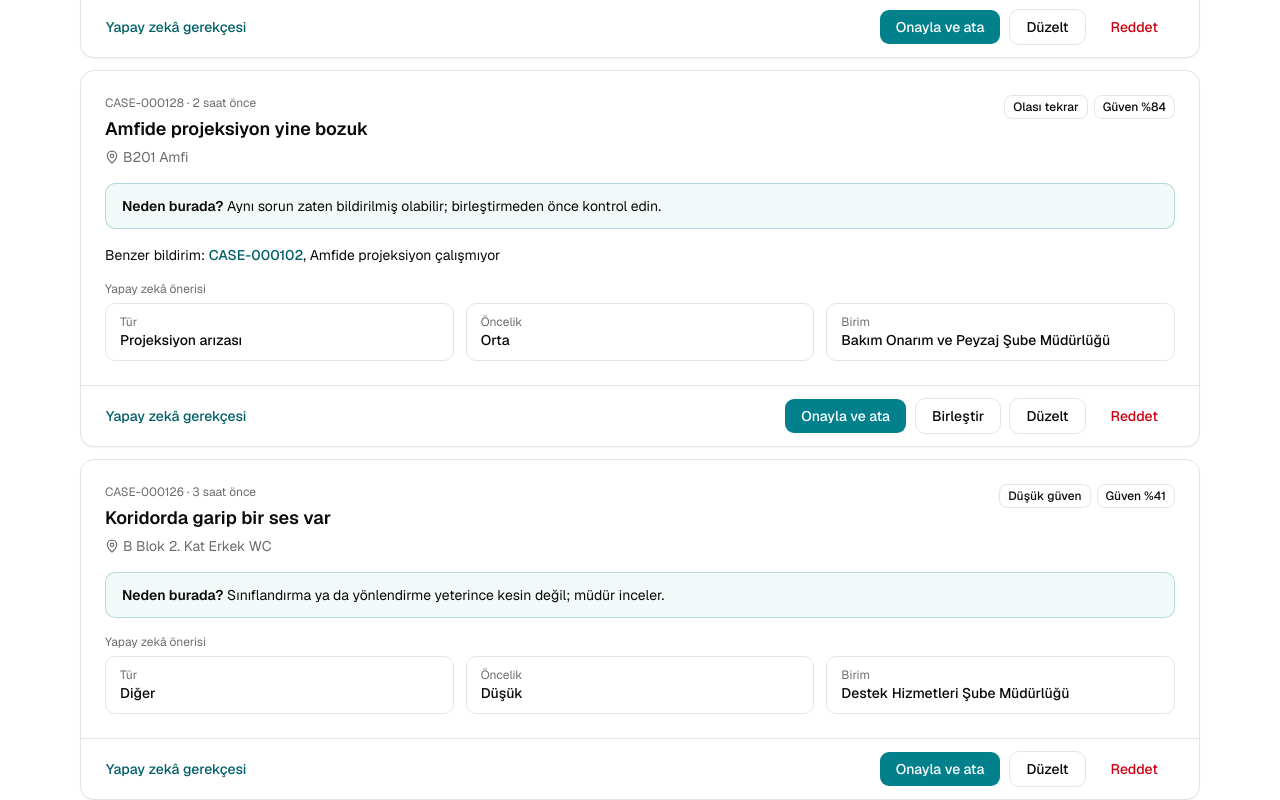
ReviewQueue › requires a reason before rejecting
(page scrolled)
Click the button "Reddet" below "Destek Hizmetleri Şube Müdürlüğü" at (1134, 769), box left=1094, top=751, right=1175, bottom=787
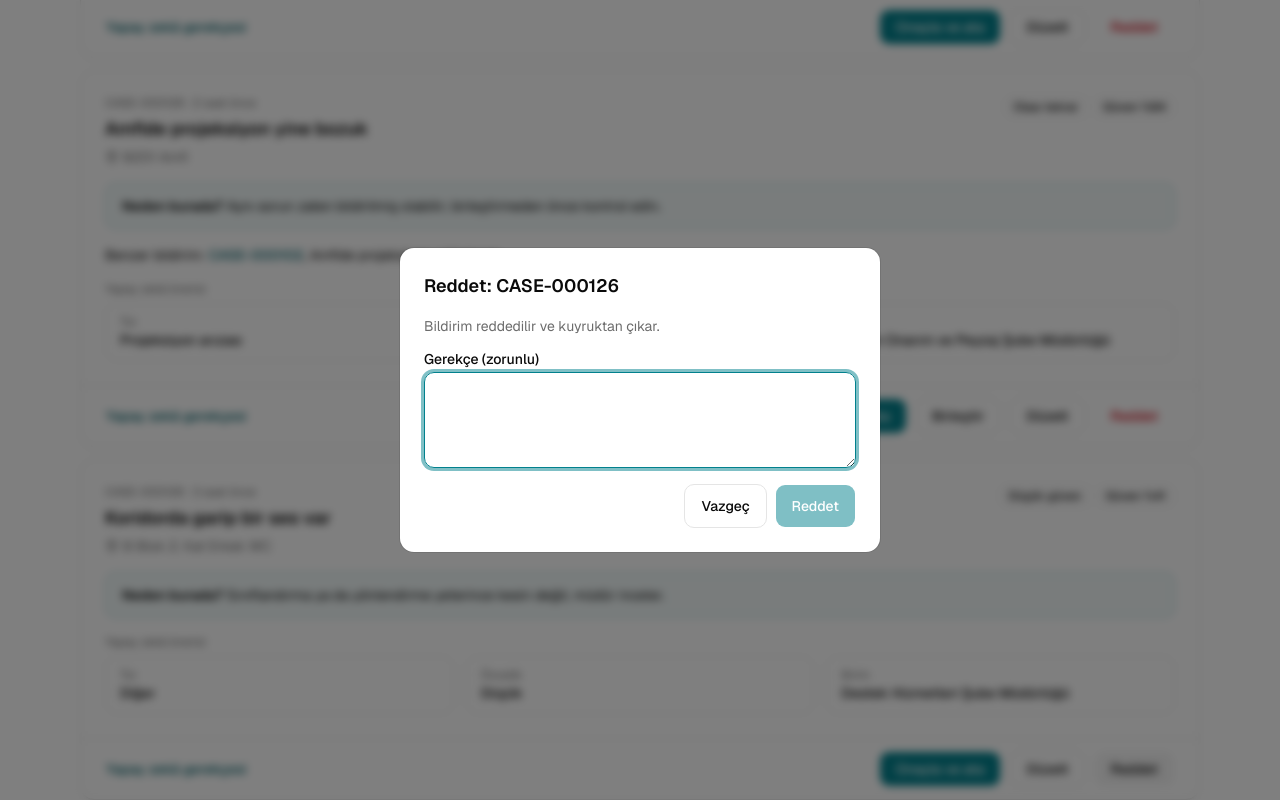
Now the button "Reddet" is disabled, box left=775, top=484, right=856, bottom=528
Type "Kampüs dışı bir talep." into the text box labelled "Gerekçe (zorunlu)" at (640, 420), box left=424, top=372, right=856, bottom=468
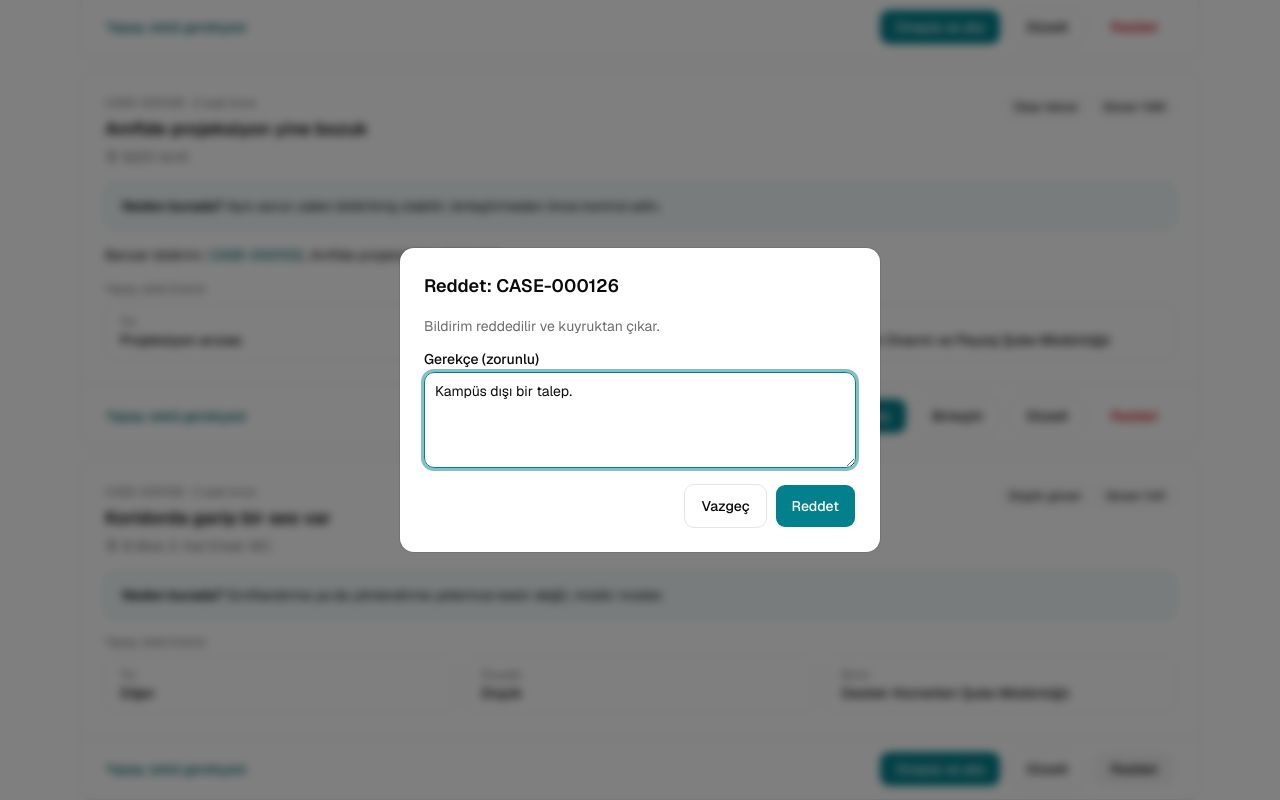
Click the button "Reddet" at (815, 506), box left=775, top=484, right=856, bottom=528
(page scrolled)
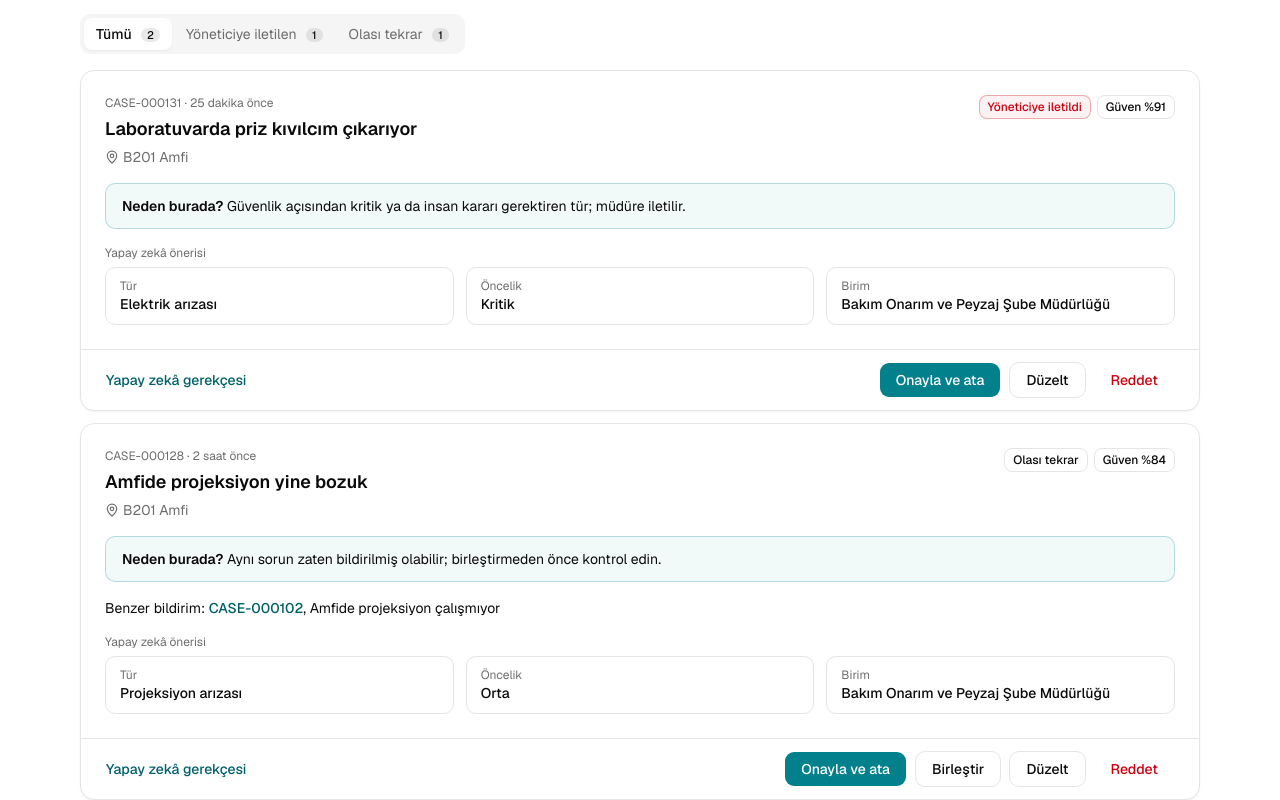
Now the heading "Koridorda garip bir ses var" is gone
